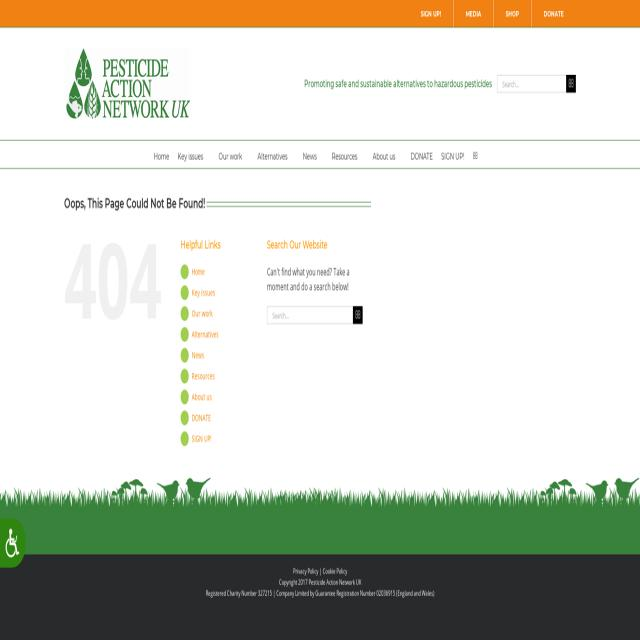button: (64, 46, 194, 121), (531, 0, 576, 27), (408, 0, 453, 27), (453, 0, 493, 27), (493, 0, 531, 27), (258, 141, 294, 168), (178, 141, 210, 168), (332, 141, 364, 168), (219, 141, 249, 168), (373, 141, 402, 168), (302, 141, 324, 168), (410, 141, 432, 168), (442, 141, 464, 168), (4, 528, 21, 558), (154, 141, 170, 168), (353, 306, 363, 324), (566, 75, 576, 92), (472, 141, 478, 168)
field: (267, 306, 353, 324), (498, 75, 566, 92)
